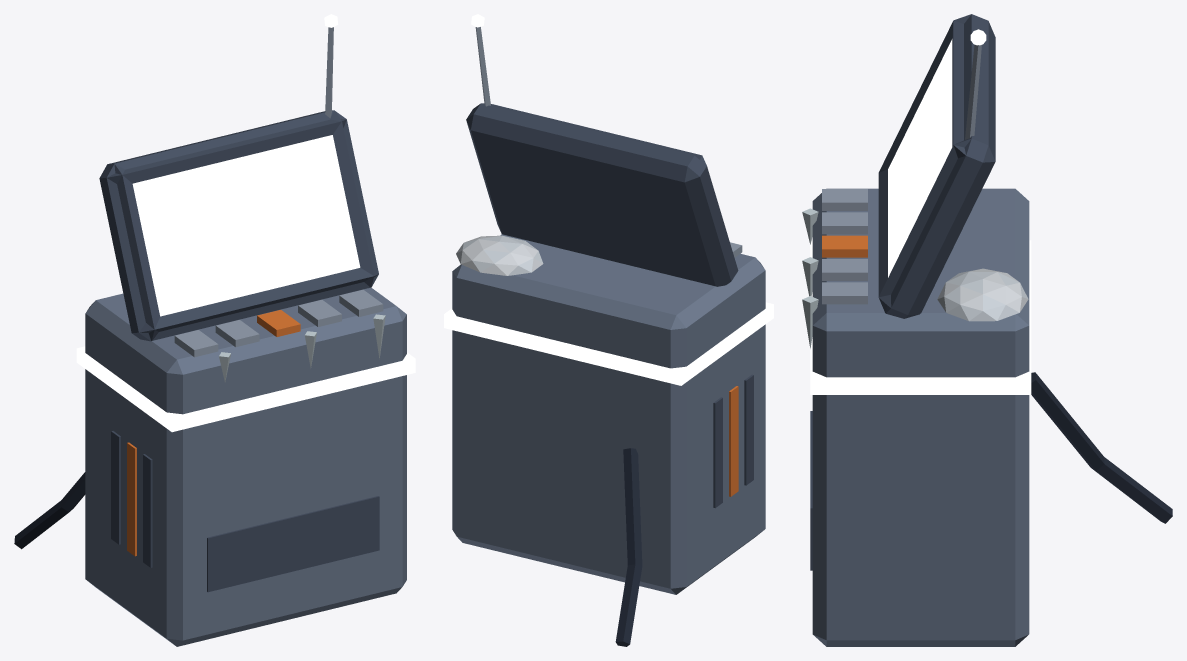
Rendered from kit-arctic-terminal.glb.
3 views of the same model, side by side, from view 1: azimuth 30°, elevation 25°; view 2: azimuth 150°, elevation 25°; view 3: azimuth 270°, elevation 25° (orthographic). The views are drawn at different scales.
Parts seen in each view (by area): view 1: kit-arctic-terminal; view 2: kit-arctic-terminal; view 3: kit-arctic-terminal.
Boxes of the visible parts, x1=… form: kit-arctic-terminal: x1=14, y1=14, x2=415, y2=646; kit-arctic-terminal: x1=444, y1=14, x2=773, y2=646; kit-arctic-terminal: x1=802, y1=14, x2=1172, y2=646.
Size of the model in its own units: 0.7325 by 1.49 by 0.805.
